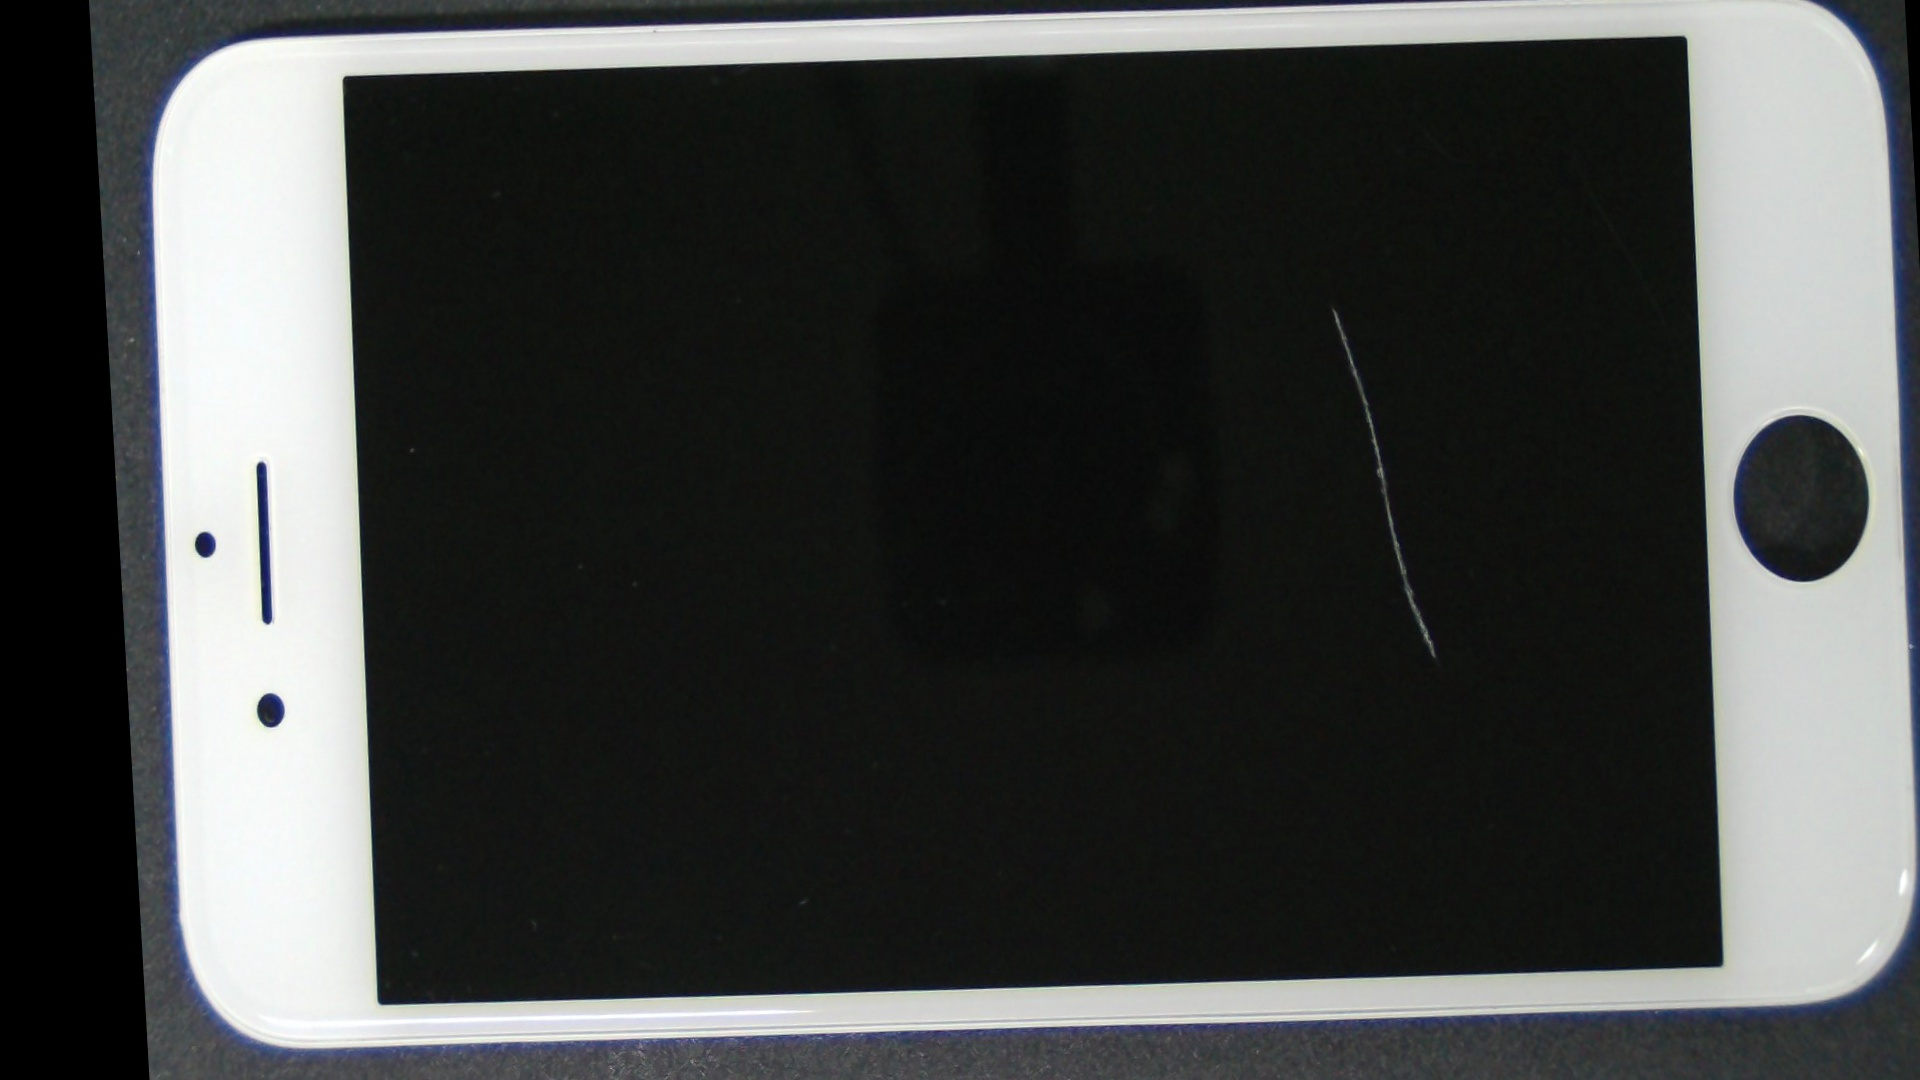oil: (708, 58, 1920, 555)
